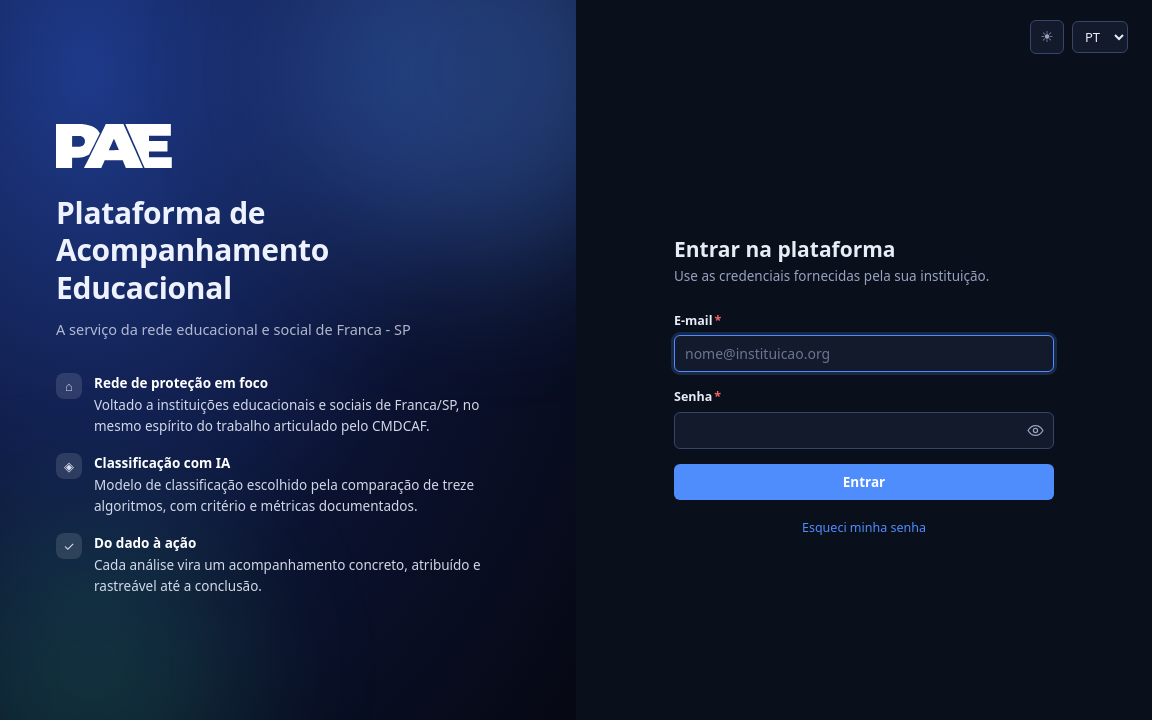
Test case: Login › rejects invalid credentials
In the field with id "email": (864, 355) [674,336,1054,373], type "admin@pi6.local"
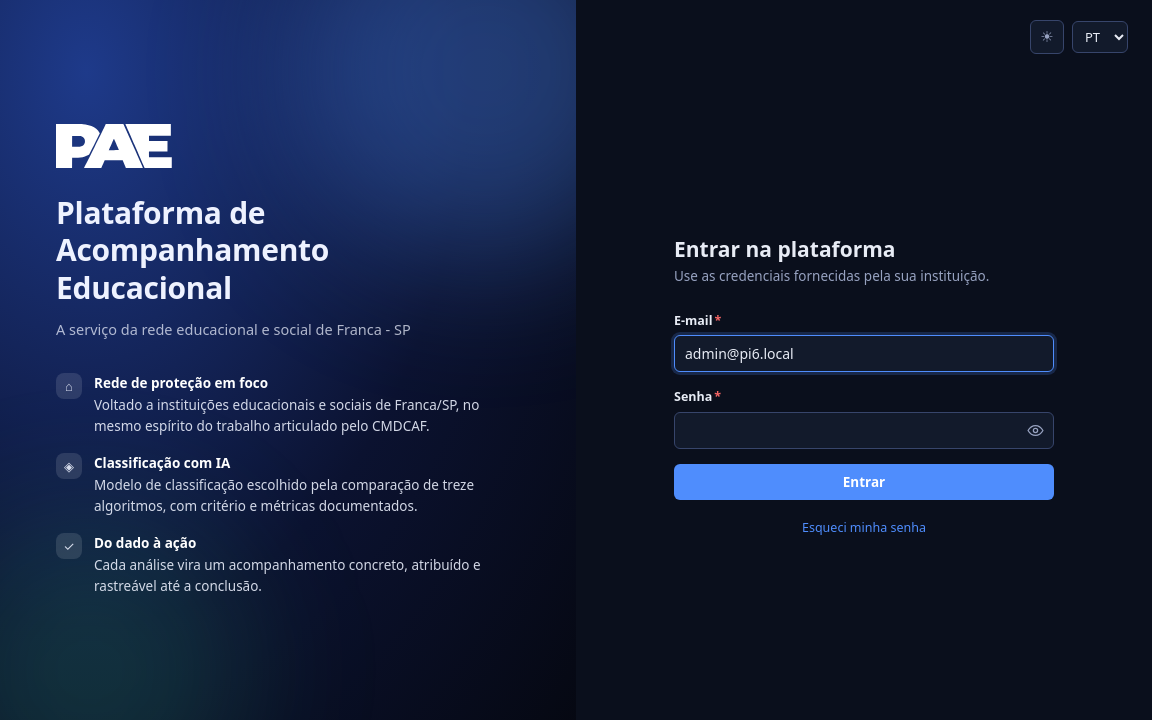
In the password field labelled "Senha*": (864, 431) [674,412,1054,449], type "senha-errada"
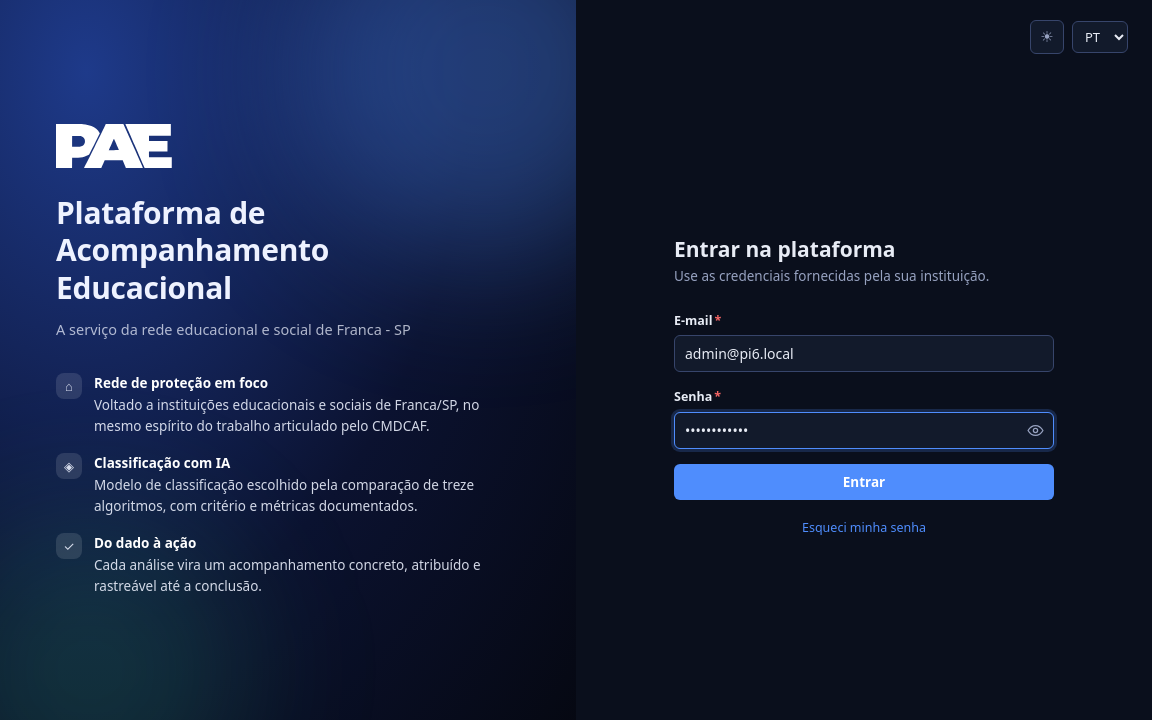
Click the submit button: (864, 482) [674,464,1054,500]
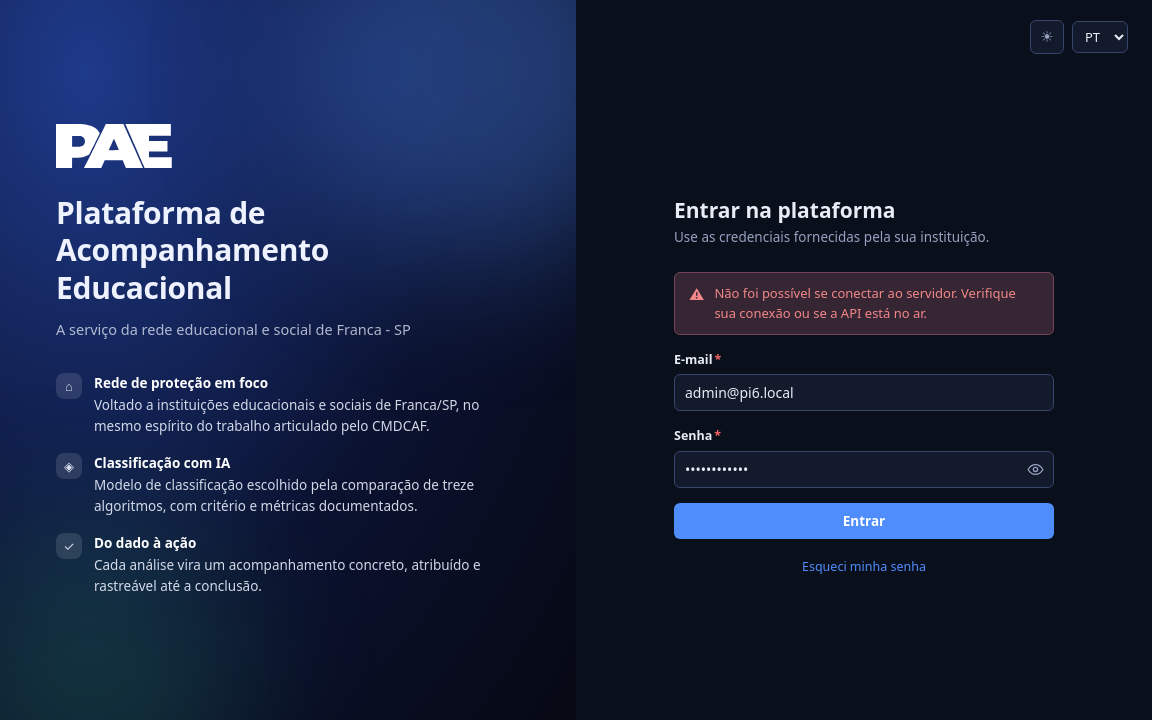
Check: the message is shown, box [674,272,1054,335]
